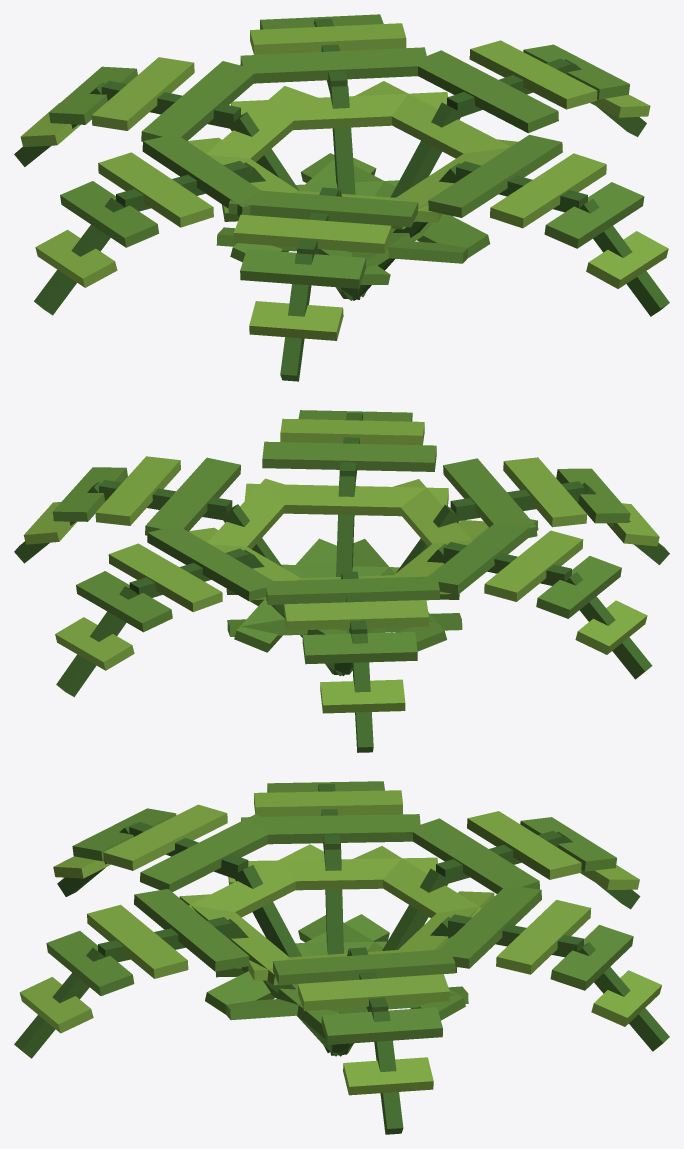
Rendered from Tree_Fern_B.fbx.
The picture shows the model from 3 angles, top to bottom: view 1: azimuth 30°, elevation 25°; view 2: azimuth 150°, elevation 25°; view 3: azimuth 270°, elevation 25°; orthographic projection. The views are drawn at different scales.
Visible parts, largest first — view 1: Tree_Fern_B; view 2: Tree_Fern_B; view 3: Tree_Fern_B.
Part boxes in pixels (bbox=[...]): Tree_Fern_B: bbox=[14, 14, 669, 381]; Tree_Fern_B: bbox=[14, 410, 669, 752]; Tree_Fern_B: bbox=[14, 781, 669, 1134].
Bounding box in the file's own units: 1.32 × 0.3234 × 1.21.
